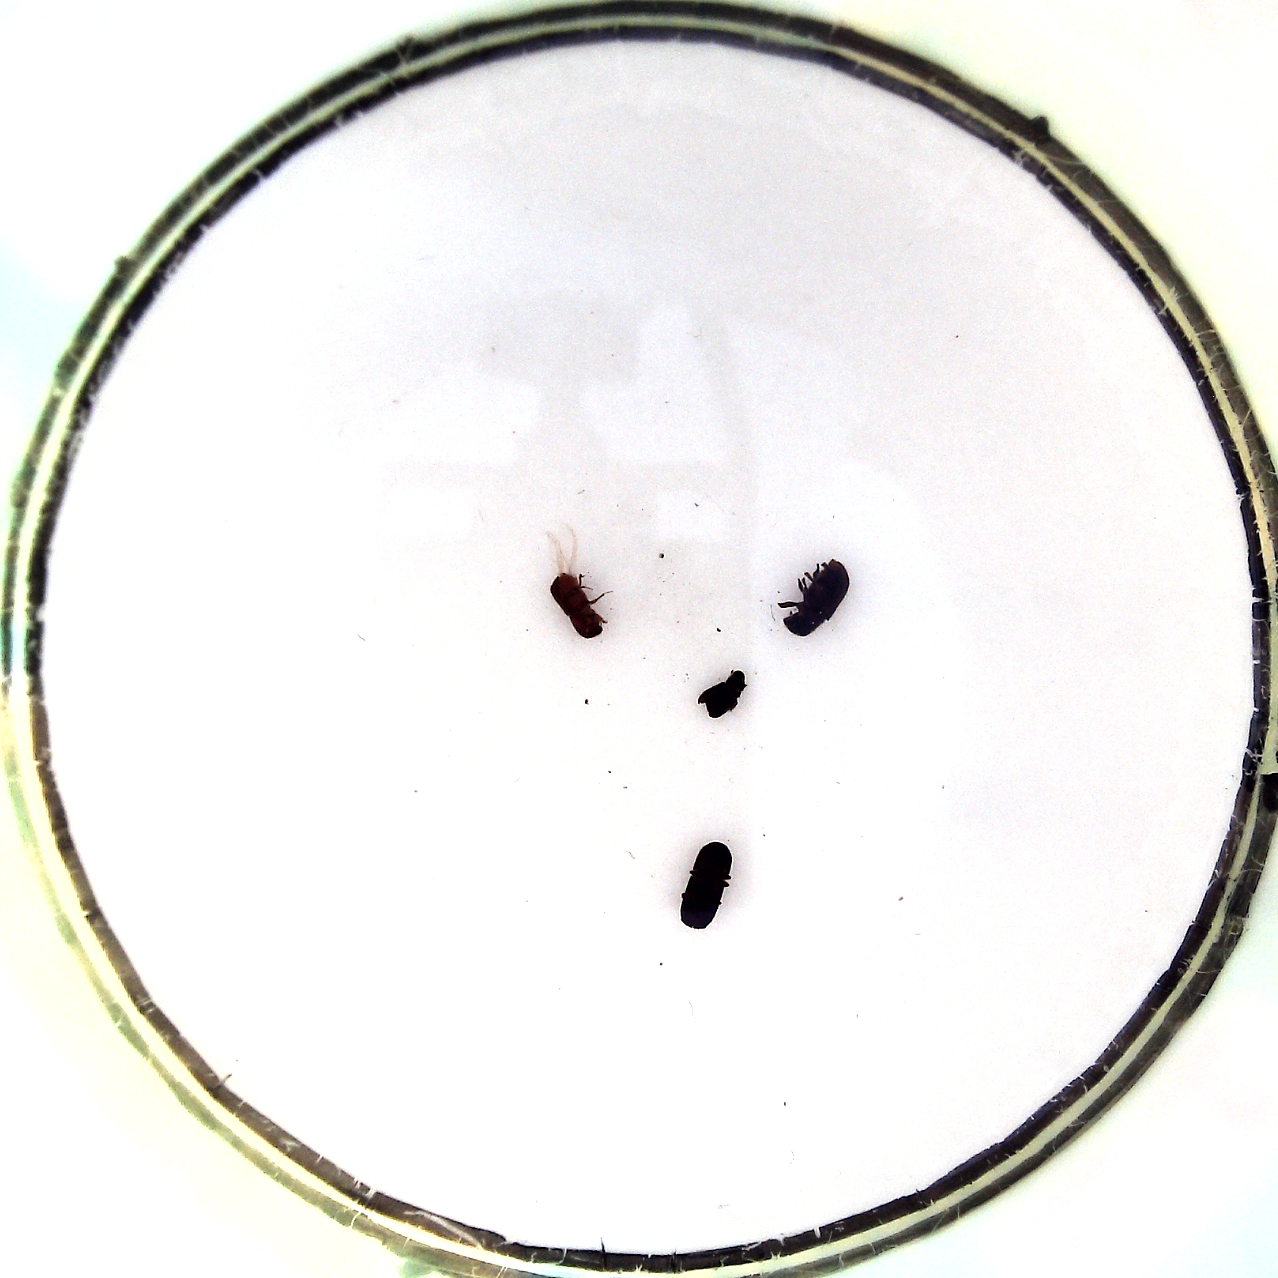Linnaeus: (675, 837, 737, 932)
acuminatus: (545, 570, 611, 647)
armandi: (776, 555, 857, 640)
coleoptera: (690, 666, 753, 720)
